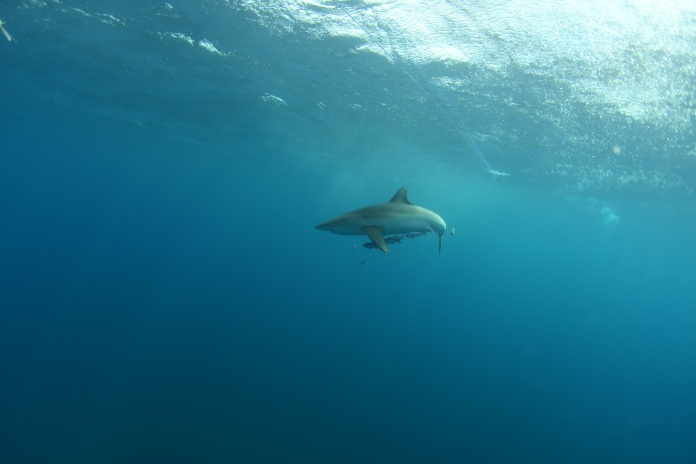Sedoso: (305, 179, 462, 265)
